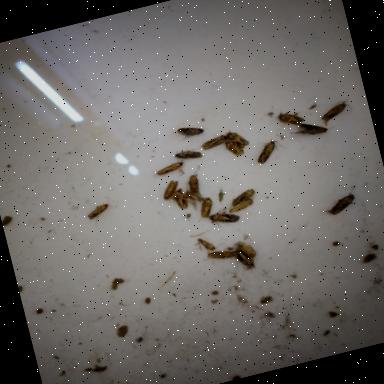pbw: (315, 182, 363, 218), (285, 114, 335, 144), (176, 174, 213, 214), (250, 132, 293, 166), (82, 192, 122, 228), (201, 201, 246, 232), (150, 154, 190, 182), (216, 131, 248, 164), (316, 97, 355, 124), (223, 122, 254, 154), (272, 104, 307, 132), (228, 242, 258, 274), (180, 163, 208, 197), (199, 243, 239, 266), (225, 183, 263, 207), (230, 234, 260, 264), (166, 184, 194, 216), (170, 120, 208, 143), (156, 173, 186, 202), (172, 144, 207, 168), (197, 131, 232, 153), (227, 192, 259, 216), (195, 194, 224, 220), (195, 231, 226, 255)
